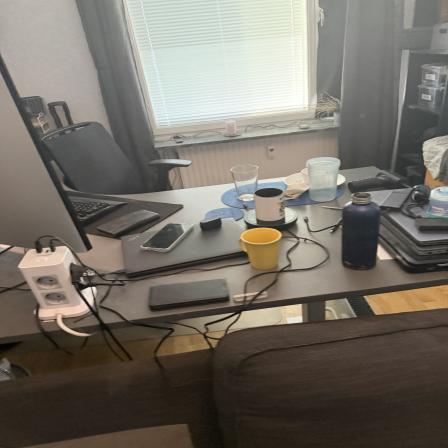blue_bottle: (339, 185, 381, 273)
phone: (146, 278, 235, 309), (140, 220, 196, 253)
yellow_cup: (238, 224, 286, 276)
